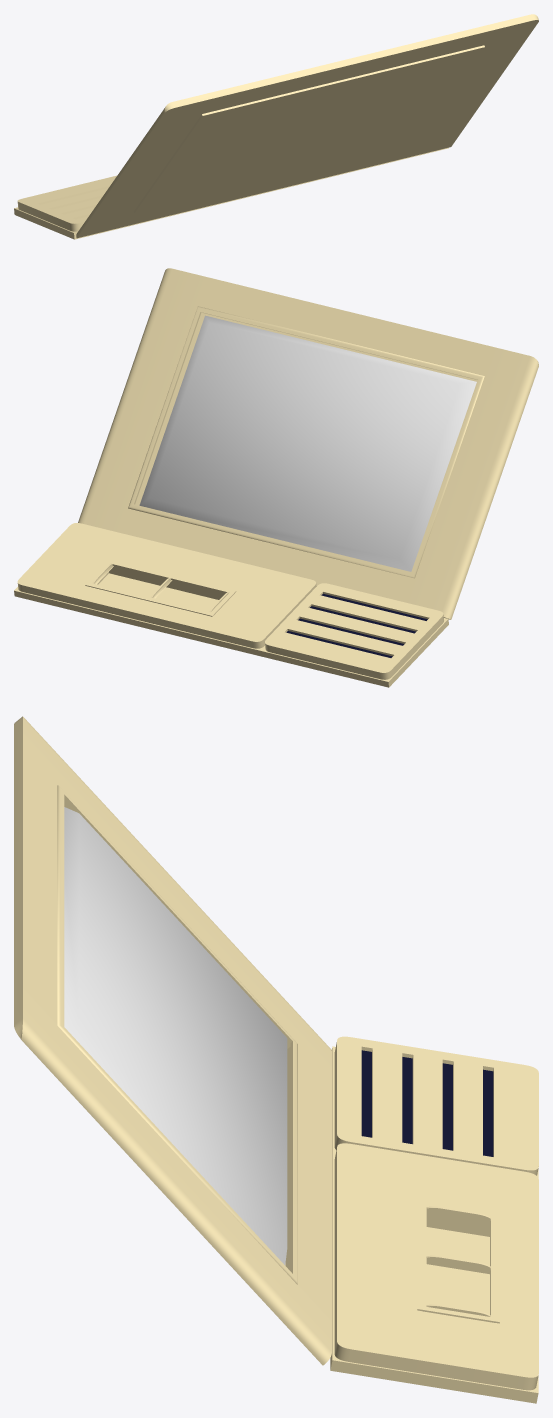
Rendered from Maniatv.fbx.
3 views of the same model, one above another, from view 1: azimuth 30°, elevation 25°; view 2: azimuth 150°, elevation 25°; view 3: azimuth 270°, elevation 25° (orthographic). The views are drawn at different scales.
Visible parts, largest first — view 1: Box003; view 2: Box003, Object001; view 3: Box003, Object001.
Part boxes in pixels (x1,y1,x2,y2): Box003: (14,14,538,239); Box003: (14,268,538,687); Object001: (139,315,476,571); Box003: (14,716,538,1403); Object001: (64,807,287,1265).
Size of the model in its own units: 1191 by 670 by 842.
